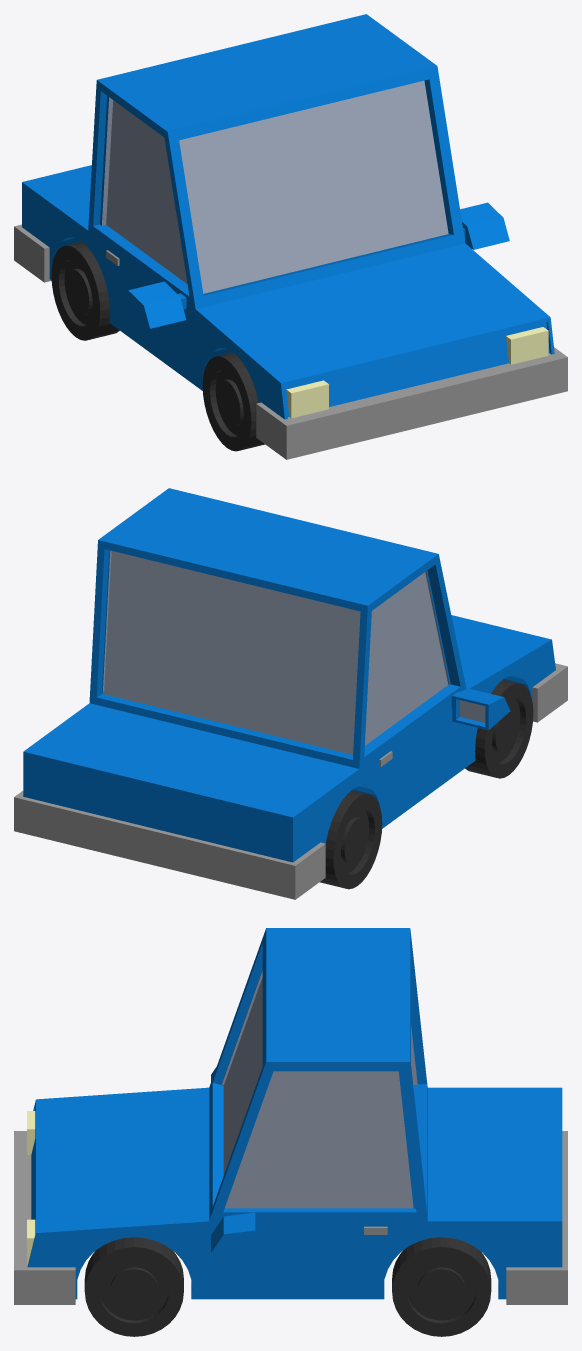
The model's file is car.glb.
The picture shows the model from 3 angles, top to bottom: view 1: azimuth 30°, elevation 25°; view 2: azimuth 150°, elevation 25°; view 3: azimuth 270°, elevation 25°; orthographic projection.
Visible parts, largest first — view 1: car body, Cube, wheel, Cube.002, Cube.004, Cube.001; view 2: car body, Cube.001, wheel, Cube.002, Cube; view 3: car body, wheel, Cube, Cube.001, Cube.002, Cube.004.
Part boxes in pixels (left/top/right/bottom): car body: left=22, top=14, right=554, bottom=419; Cube: left=256, top=347, right=567, bottom=459; wheel: left=51, top=242, right=264, bottom=451; Cube.002: left=128, top=202, right=509, bottom=328; Cube.004: left=286, top=327, right=548, bottom=418; Cube.001: left=14, top=224, right=51, bottom=282; car body: left=23, top=488, right=555, bottom=862; Cube.001: left=14, top=791, right=325, bottom=899; wheel: left=320, top=679, right=533, bottom=889; Cube.002: left=451, top=688, right=510, bottom=730; Cube: left=532, top=663, right=567, bottom=722; car body: left=27, top=928, right=562, bottom=1299; wheel: left=84, top=1237, right=491, bottom=1336; Cube: left=14, top=1131, right=75, bottom=1304; Cube.001: left=506, top=1131, right=567, bottom=1304; Cube.002: left=211, top=1067, right=255, bottom=1256; Cube.004: left=27, top=1111, right=35, bottom=1263.
Size of the model in its own units: 2.32 by 1.65 by 3.04.
